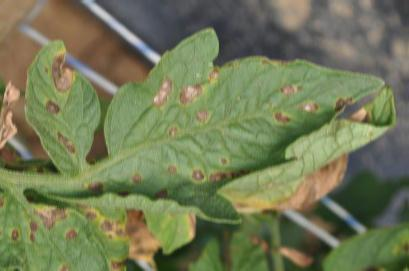Tomato Septoria leaf spot: (65, 25, 399, 228), (19, 40, 108, 178), (0, 187, 135, 271)
